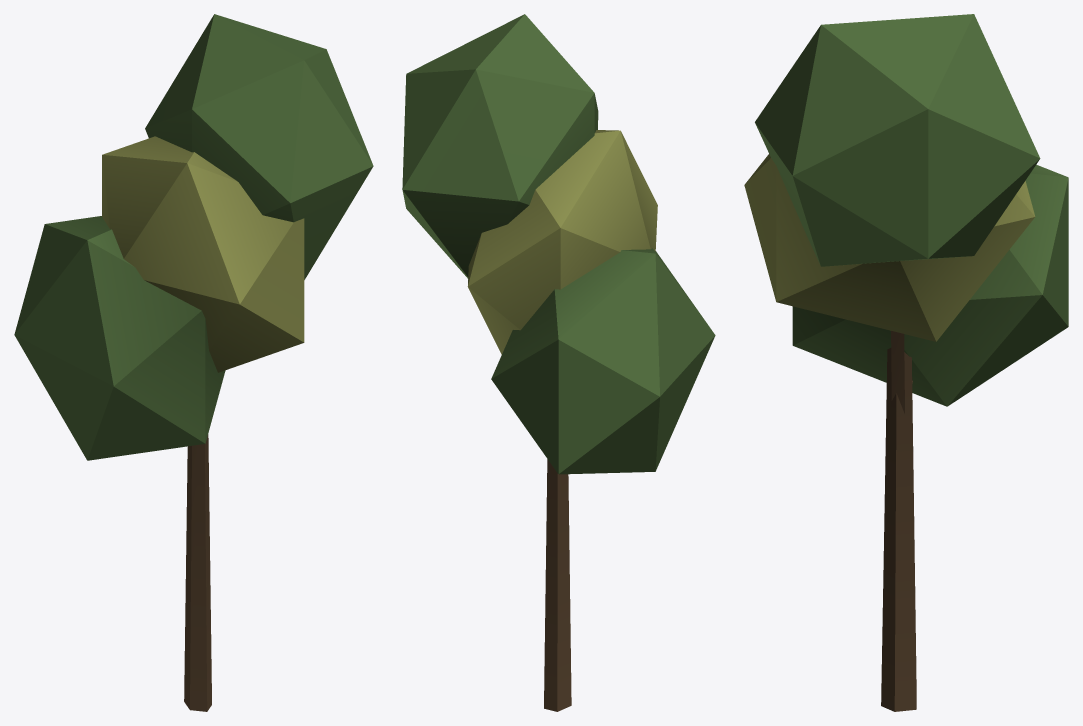
The model's file is tree-gum-3.glb.
The picture shows the model from 3 angles, left to right: view 1: azimuth 30°, elevation 25°; view 2: azimuth 150°, elevation 25°; view 3: azimuth 270°, elevation 25°; orthographic projection. The views are drawn at different scales.
Parts seen in each view (by area): view 1: tree-gum-3; view 2: tree-gum-3; view 3: tree-gum-3.
Part boxes in pixels (x1,y1,x2,y2): tree-gum-3: (14,14,373,711); tree-gum-3: (402,14,715,711); tree-gum-3: (744,14,1068,711).
Bounding box in the file's own units: 10 × 22 × 9.
